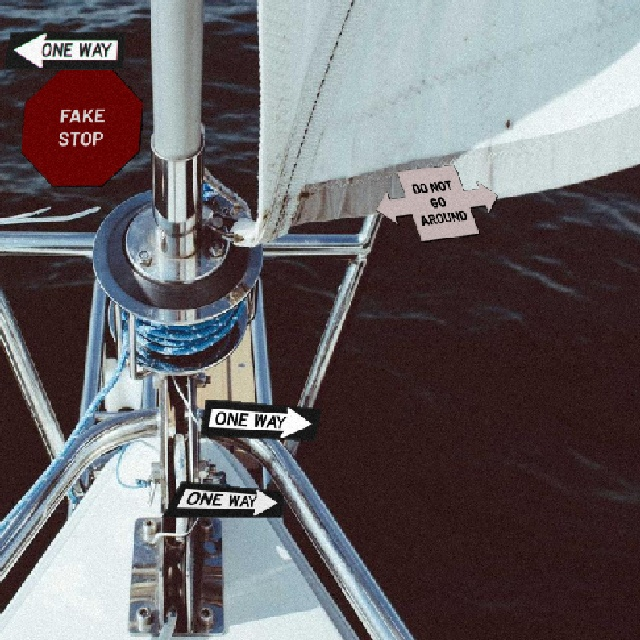DO_NOT_GO_AROUND: (374, 163, 497, 241)
FAKE_STOP: (19, 66, 142, 186)
ONE_WAY_ left: (1, 30, 124, 69)
ONE_WAY_ right: (198, 397, 321, 440), (159, 479, 282, 517)
